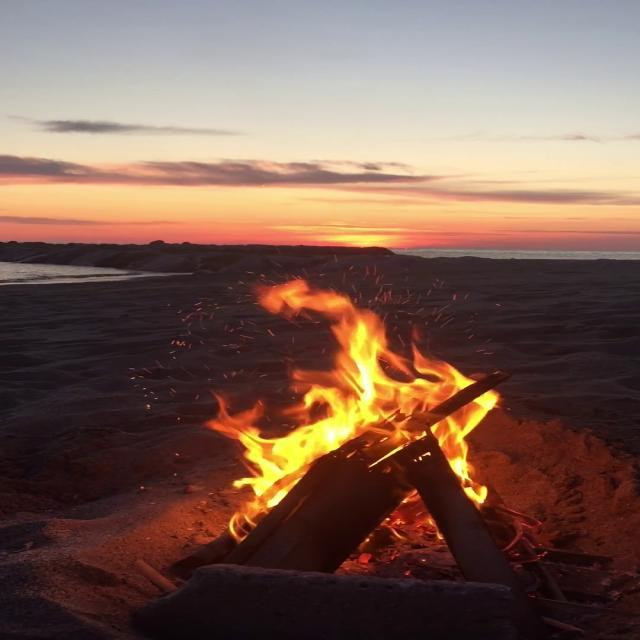Fire: (202, 274, 514, 542)
